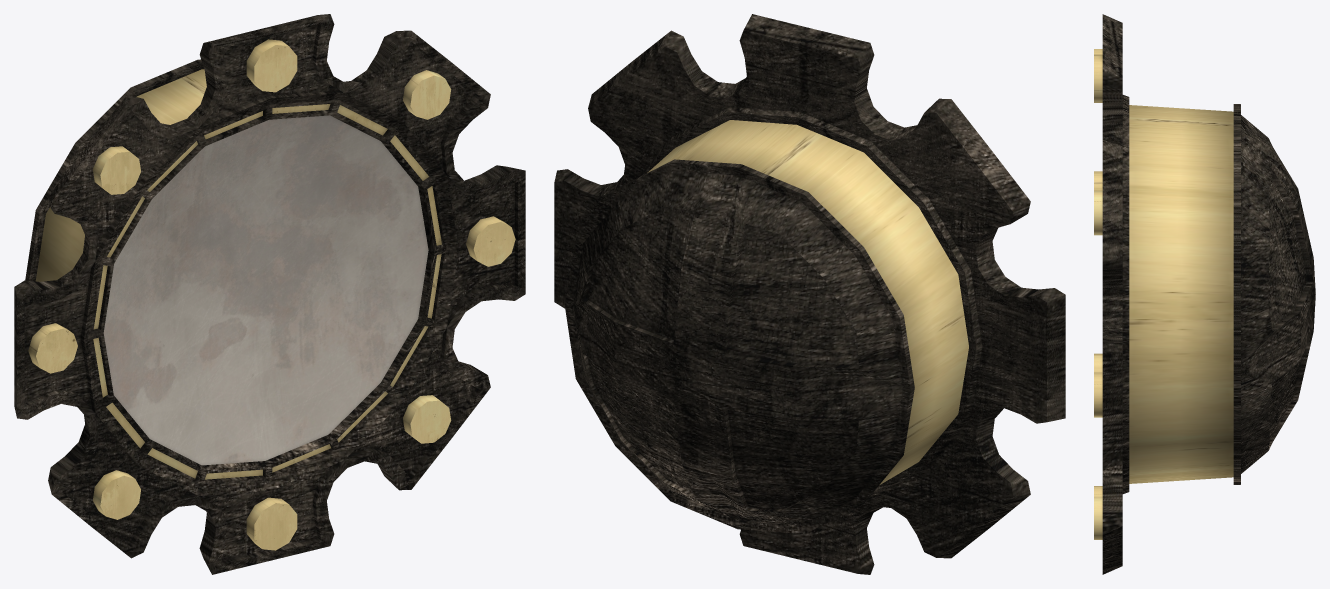
File: Mirror_01_v01.fbx
3 renders of one model, left to right at view 1: azimuth 30°, elevation 25°; view 2: azimuth 150°, elevation 25°; view 3: azimuth 270°, elevation 25°, orthographic. The views are drawn at different scales.
Visible parts, largest first — view 1: MirrorFrame, Mirror; view 2: MirrorFrame; view 3: MirrorFrame.
Part boxes in pixels (bbox=[...]): MirrorFrame: bbox=[14, 14, 525, 574]; Mirror: bbox=[103, 115, 428, 465]; MirrorFrame: bbox=[554, 14, 1065, 574]; MirrorFrame: bbox=[1094, 14, 1315, 574].
Bounding box in the file's own units: 63.46 × 63.46 × 25.47.
